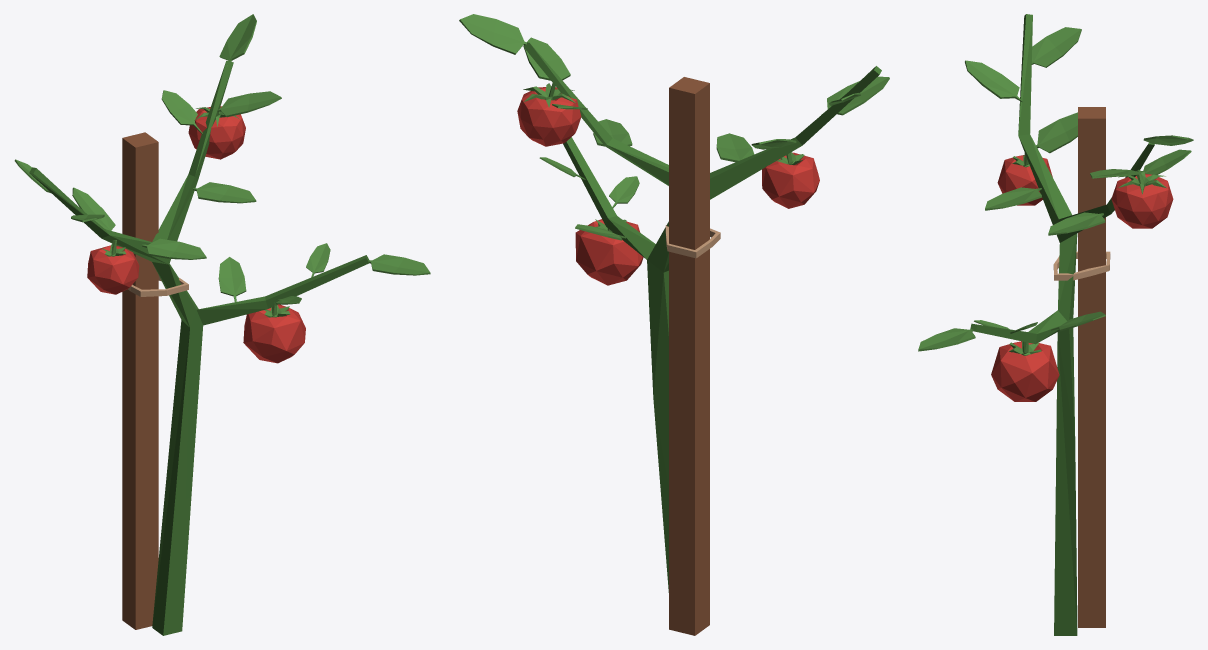
The model's file is TomatoPlant_01.fbx.
The picture shows the model from 3 angles, left to right: view 1: azimuth 30°, elevation 25°; view 2: azimuth 150°, elevation 25°; view 3: azimuth 270°, elevation 25°; orthographic projection. The views are drawn at different scales.
Visible parts, largest first — view 1: TomatoPlant_01_LOD0; view 2: TomatoPlant_01_LOD0; view 3: TomatoPlant_01_LOD0.
Part boxes in pixels (x1,y1,x2,y2): TomatoPlant_01_LOD0: [14, 14, 430, 635]; TomatoPlant_01_LOD0: [459, 14, 889, 635]; TomatoPlant_01_LOD0: [918, 14, 1193, 635].
Size of what is drawn, in the model's own units: 59.12 by 86.78 by 38.15.
